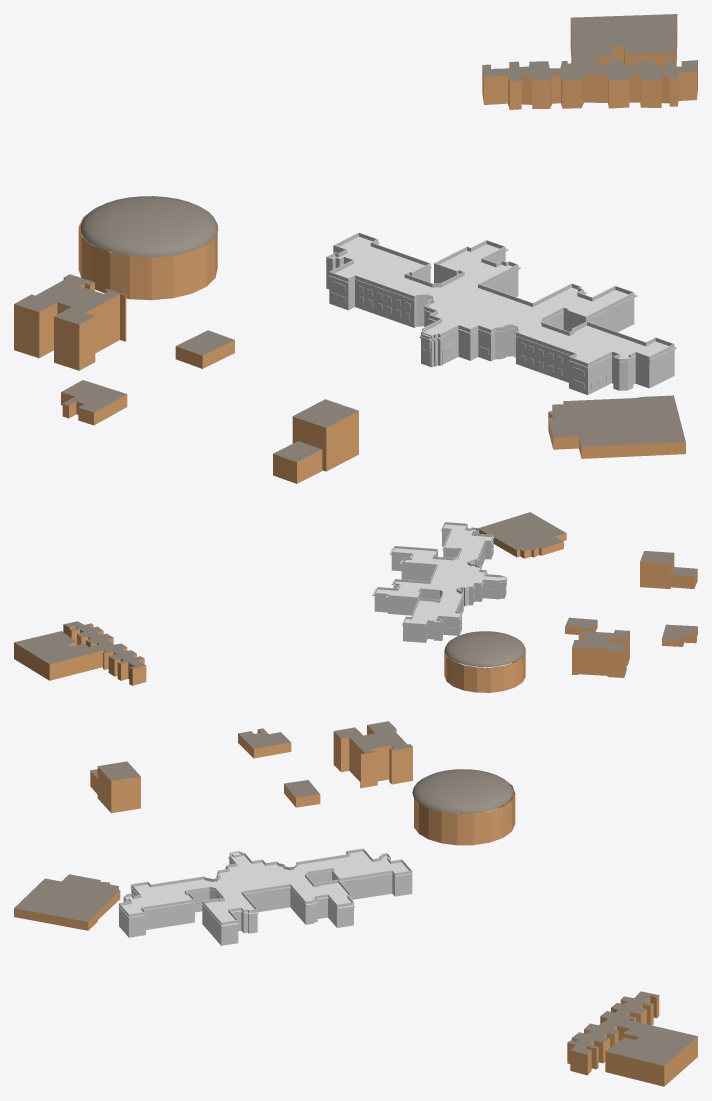
The model's file is onlyBuildings.glb.
3 renders of one model, top to bottom at view 1: azimuth 30°, elevation 25°; view 2: azimuth 150°, elevation 25°; view 3: azimuth 270°, elevation 25°, orthographic. The views are drawn at different scales.
Parts seen in each view (by area): view 1: map_26.osm_buildings, Wall, Slab.001, AutoBoolean.001, Slab; view 2: map_26.osm_buildings, Wall, Slab.001; view 3: map_26.osm_buildings, Wall, Slab.001.
Boxes of the visible parts, <box> form: map_26.osm_buildings: <box>14,14,697,483</box>; Wall: <box>326,232,674,393</box>; Slab.001: <box>326,236,676,368</box>; AutoBoolean.001: <box>331,282,610,388</box>; Slab: <box>326,287,674,394</box>; map_26.osm_buildings: <box>14,512,697,692</box>; Wall: <box>374,522,505,641</box>; Slab.001: <box>372,524,507,627</box>; map_26.osm_buildings: <box>14,721,697,1086</box>; Wall: <box>119,848,412,944</box>; Slab.001: <box>118,851,412,927</box>.
Bounding box in the file's own units: 340 × 33.1 × 309.
